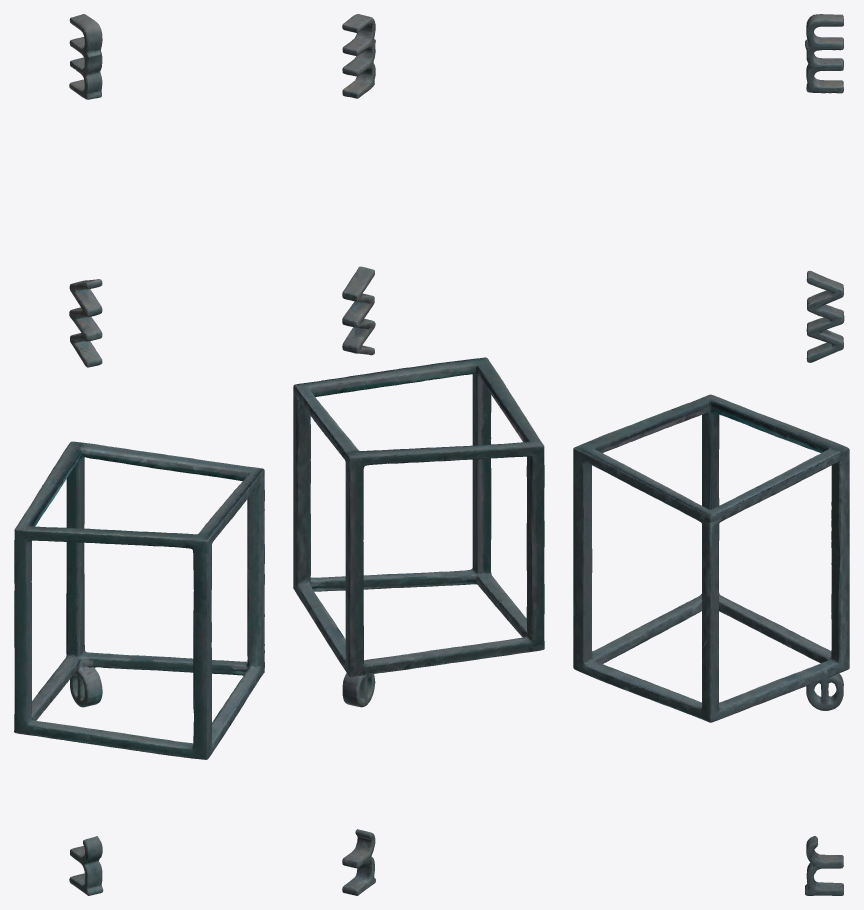
File: CEM-ACC-SP50.glb
The picture shows the model from 3 angles, left to right: view 1: azimuth 30°, elevation 25°; view 2: azimuth 150°, elevation 25°; view 3: azimuth 270°, elevation 25°; orthographic projection.
Visible parts, largest first — view 1: mesh_node; view 2: mesh_node; view 3: mesh_node.
Part boxes in pixels (<box>): mesh_node: <box>14,14,264,895</box>; mesh_node: <box>293,14,544,895</box>; mesh_node: <box>573,14,849,895</box>.
Bounding box in the file's own units: 0.2115 × 0.7 × 0.2002.
1 material, 1 textured.
